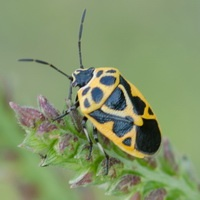insect: (10, 9, 160, 174)
